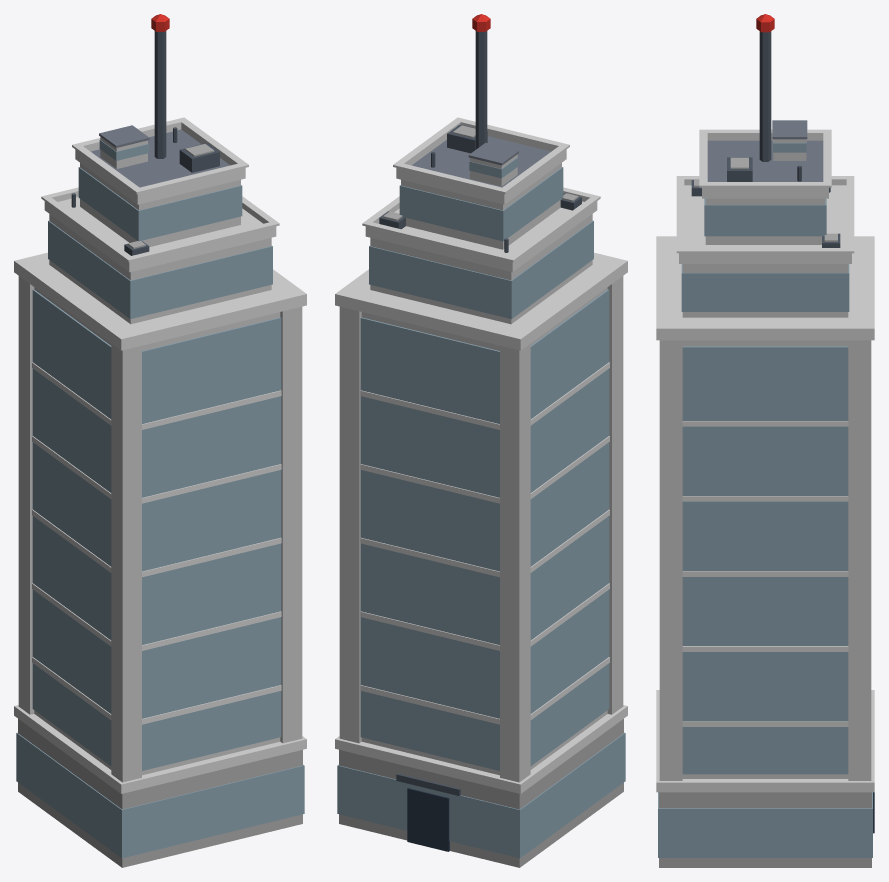
File: building_large.glb
3 renders of one model, left to right at view 1: azimuth 30°, elevation 25°; view 2: azimuth 150°, elevation 25°; view 3: azimuth 270°, elevation 25°, orthographic.
Visible parts, largest first — view 1: building_large; view 2: building_large; view 3: building_large.
Part boxes in pixels (box(x1,y1,x2,y2)): building_large: box(14, 14, 306, 867); building_large: box(335, 14, 627, 867); building_large: box(656, 14, 874, 867).
Bounding box in the file's own units: 15.3 × 62.49 × 15.3.
